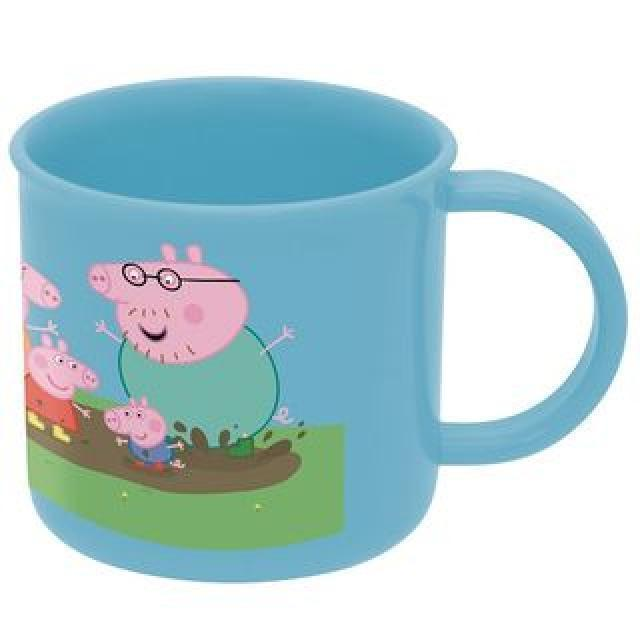Plastic: (8, 76, 626, 586)
